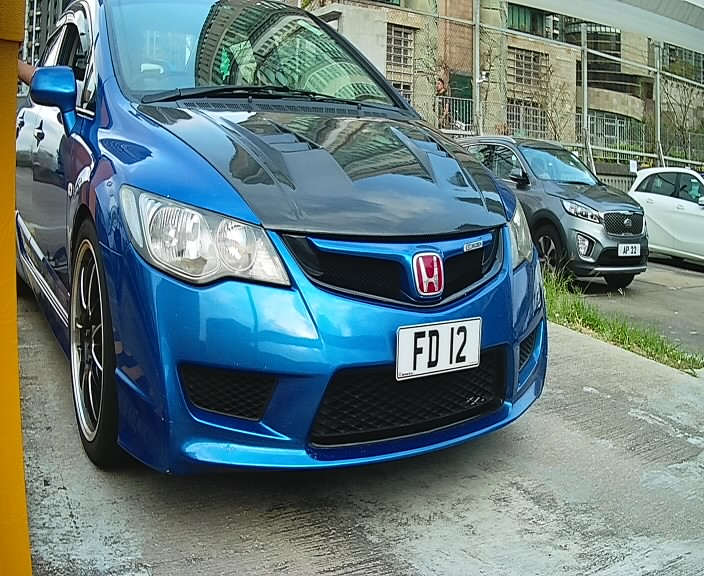Car: (60, 8, 560, 511)
License Plate: (389, 310, 491, 391)
